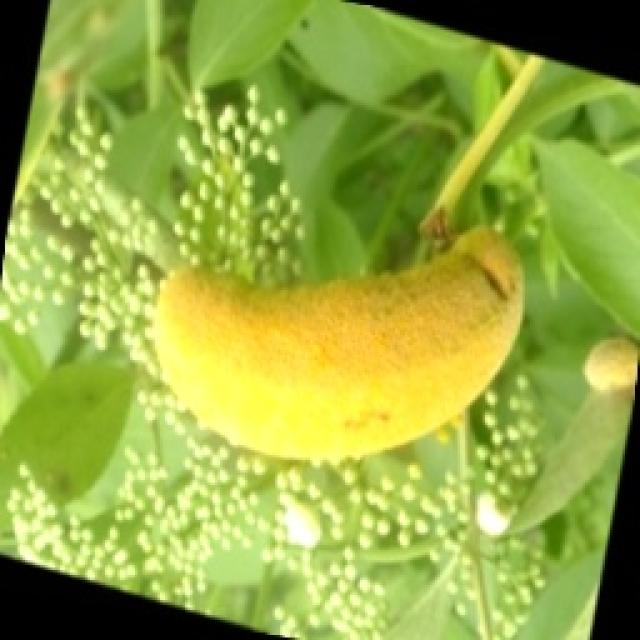Elderberry_rust: (147, 222, 525, 462)
